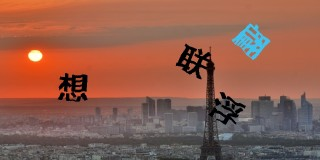想: (56, 73, 90, 102)
浮: (207, 91, 247, 125)
翩: (232, 22, 271, 59)
联: (175, 44, 212, 79)
